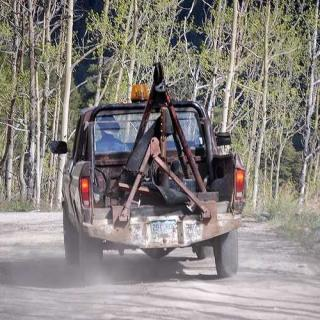Towing_truck: (50, 61, 248, 281)
